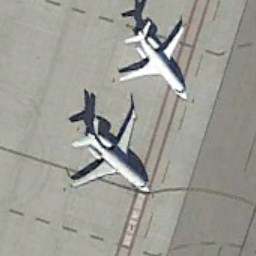Airplane: (59, 106, 158, 207), (104, 15, 205, 102)
